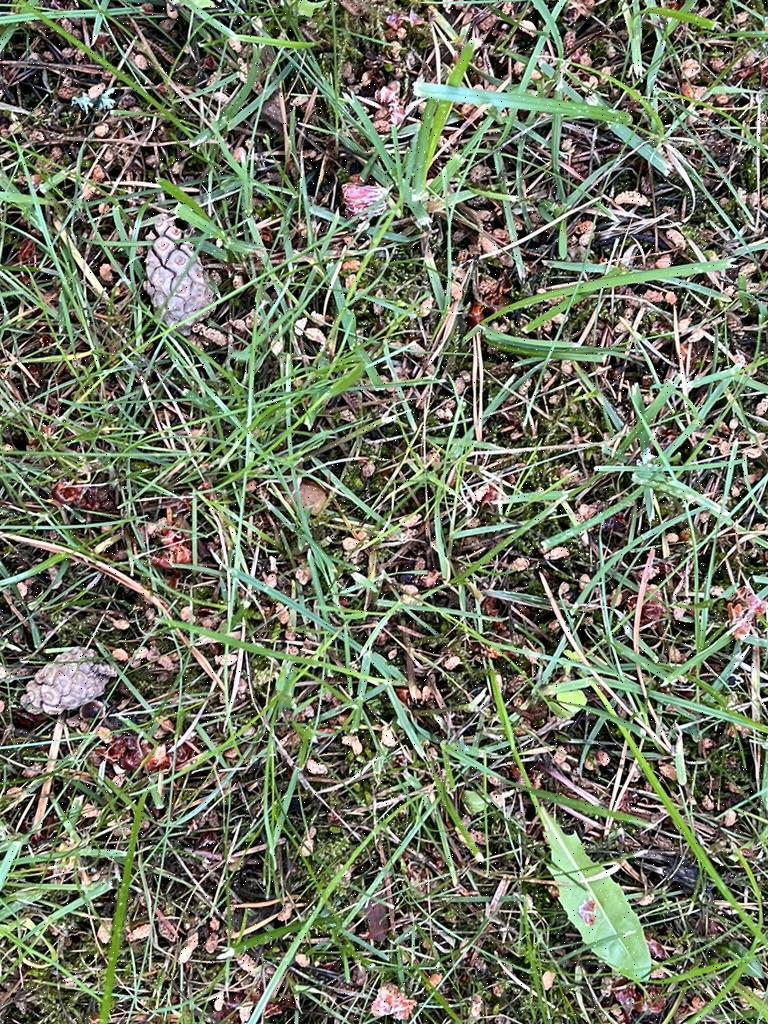pine: (134, 203, 226, 353), (6, 636, 124, 730)
